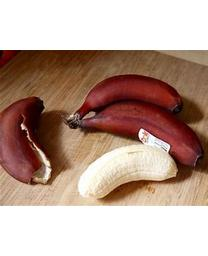banana: (70, 76, 202, 196)
